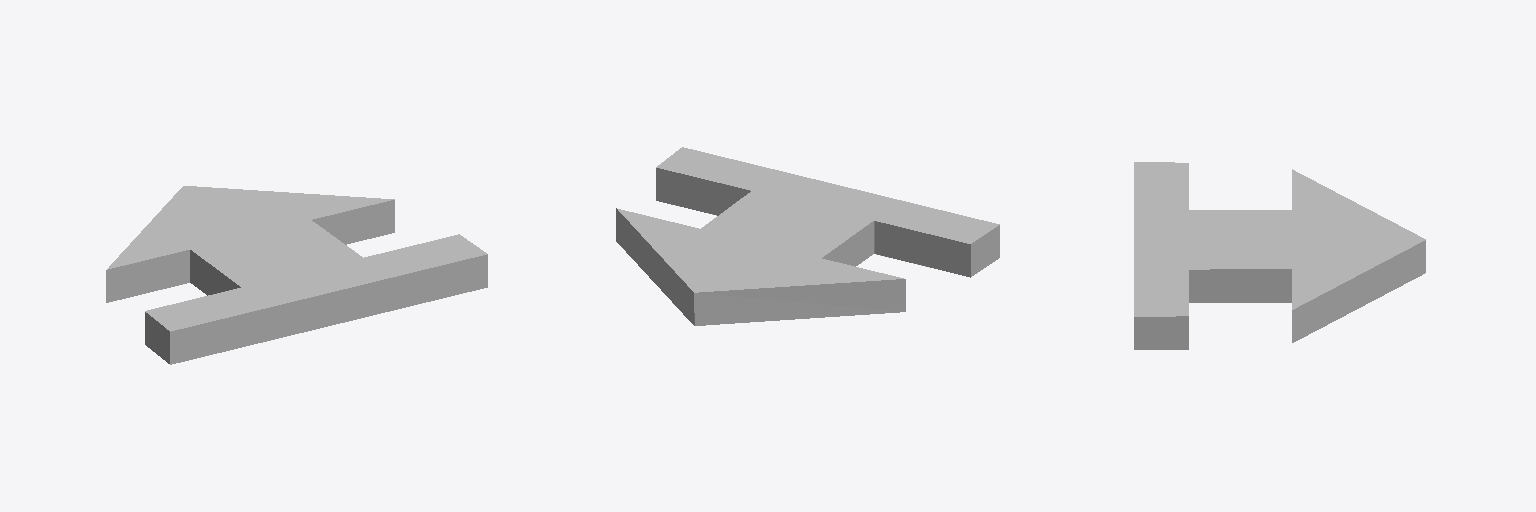
File: depart.obj
3 views of the same model, side by side, from view 1: azimuth 30°, elevation 25°; view 2: azimuth 150°, elevation 25°; view 3: azimuth 270°, elevation 25° (orthographic).
Parts seen in each view (by area): view 1: Cube; view 2: Cube; view 3: Cube.
Boxes of the visible parts, box(x1,y1,x2,y2) form: Cube: box(106, 186, 487, 364); Cube: box(616, 147, 999, 325); Cube: box(1134, 162, 1425, 349).
Bounding box in the file's own units: 2 × 0.2 × 1.6.